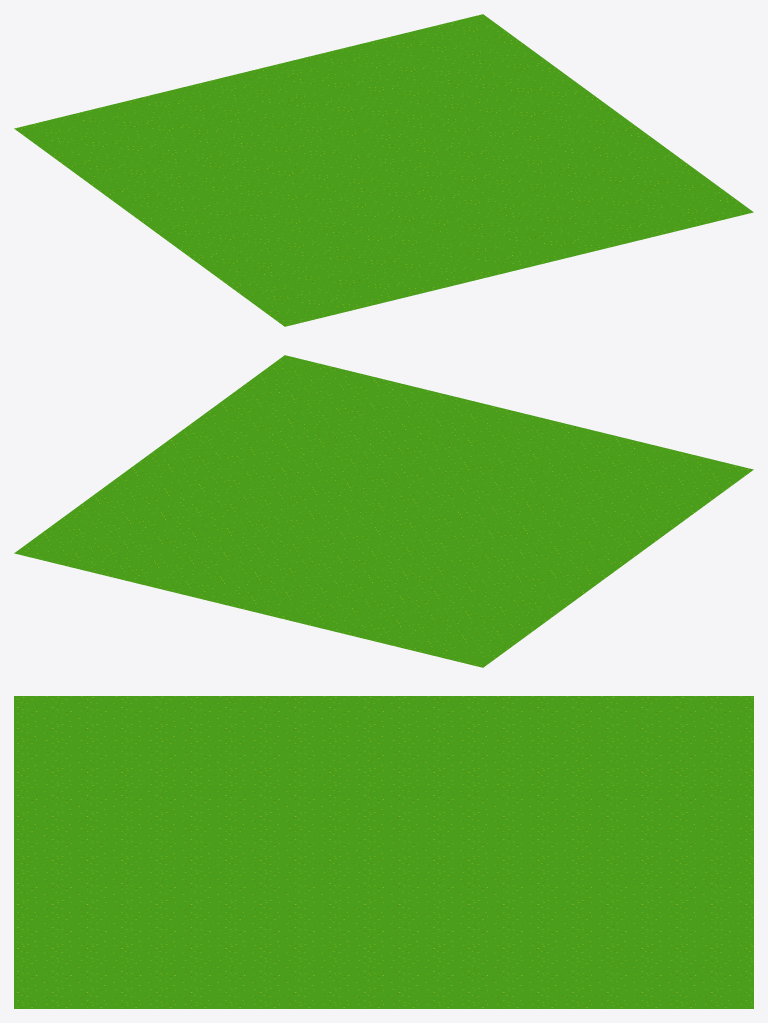
The model's file is grass.fbx.
The picture shows the model from 3 angles, top to bottom: view 1: azimuth 30°, elevation 25°; view 2: azimuth 150°, elevation 25°; view 3: azimuth 270°, elevation 25°; orthographic projection. The views are drawn at different scales.
Visible parts, largest first — view 1: Plane001; view 2: Plane001; view 3: Plane001.
Part boxes in pixels (x1,y1,x2,y2): Plane001: [14, 14, 753, 326]; Plane001: [14, 355, 753, 667]; Plane001: [14, 696, 753, 1008].
Bounding box in the file's own units: 3200 × 1.96e-13 × 3200.
